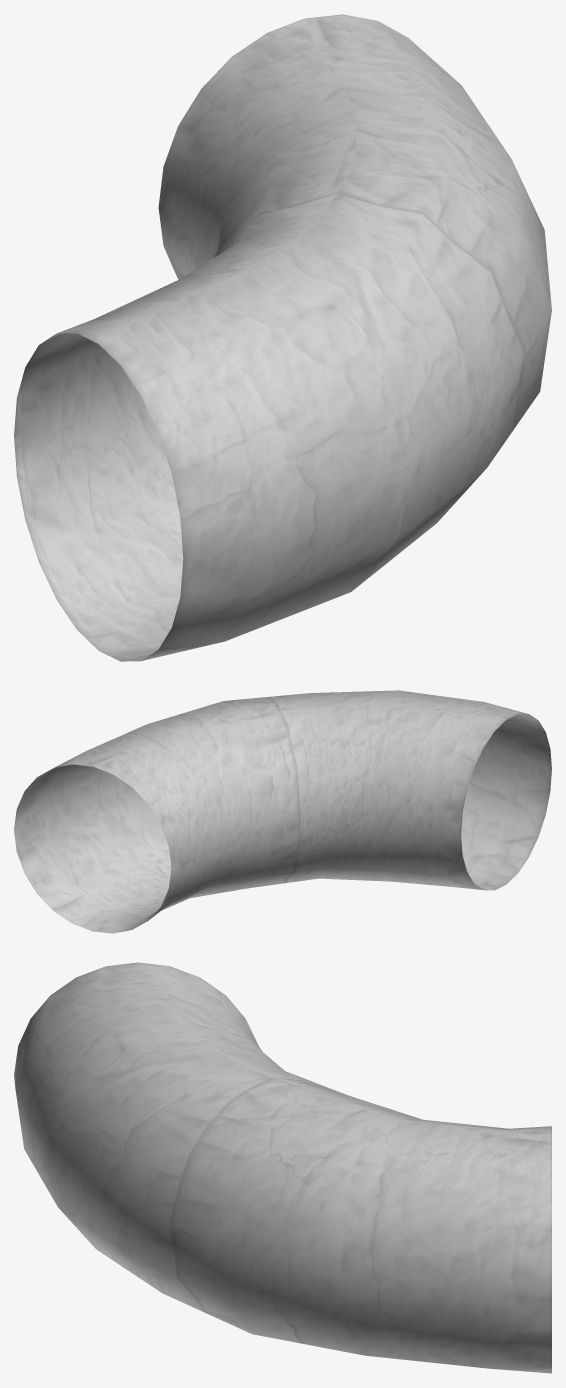
The model's file is Subway_Pipe_Foil2_L1.fbx.
The picture shows the model from 3 angles, top to bottom: view 1: azimuth 30°, elevation 25°; view 2: azimuth 150°, elevation 25°; view 3: azimuth 270°, elevation 25°; orthographic projection. The views are drawn at different scales.
Visible parts, largest first — view 1: pCylinder16; view 2: pCylinder16; view 3: pCylinder16.
Part boxes in pixels (x1,y1,x2,y2): pCylinder16: [14, 14, 551, 661]; pCylinder16: [14, 690, 551, 933]; pCylinder16: [14, 962, 551, 1373].
Size of the model in its own units: 130 by 62.69 by 130.
